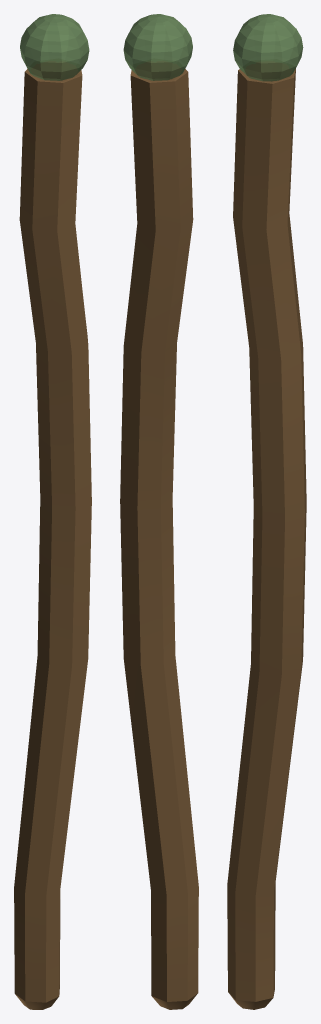
File: low staff.fbx
The picture shows the model from 3 angles, left to right: view 1: azimuth 30°, elevation 25°; view 2: azimuth 150°, elevation 25°; view 3: azimuth 330°, elevation 25°; orthographic projection.
Visible parts, largest first — view 1: pCylinder2; view 2: pCylinder2; view 3: pCylinder2.
Part boxes in pixels (x1=…): pCylinder2: x1=14, y1=14, x2=91, y2=1009; pCylinder2: x1=120, y1=14, x2=198, y2=1009; pCylinder2: x1=227, y1=14, x2=306, y2=1009.
Size of the model in its own units: 30.59 by 403 by 24.61.
